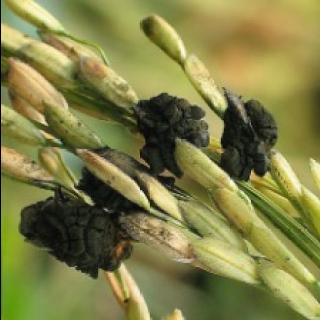Gosong-Palsu: (20, 191, 131, 279), (134, 94, 209, 176), (220, 90, 277, 181)
